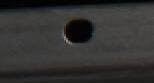holes: (62, 16, 95, 44)
